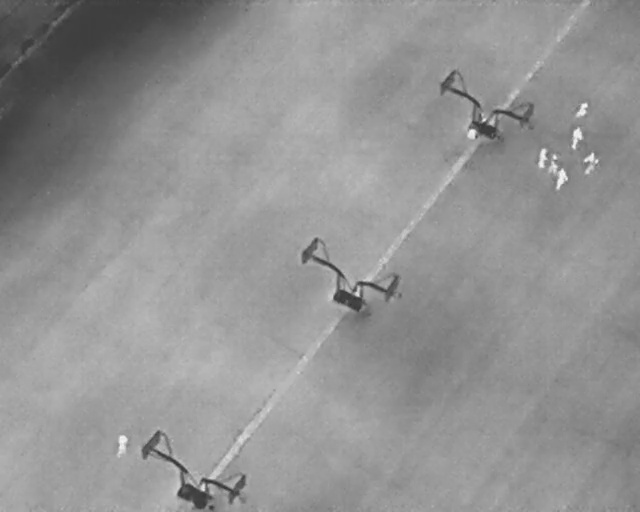Person: (578, 147, 602, 178), (567, 121, 588, 154), (571, 99, 591, 121), (113, 434, 128, 459), (554, 167, 568, 191), (538, 146, 548, 169), (465, 126, 478, 142), (549, 153, 557, 173)
